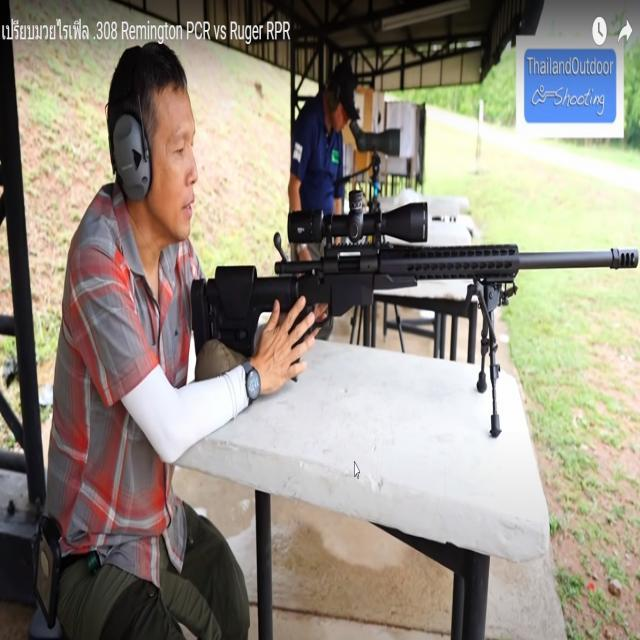rifle: (184, 222, 640, 459)
